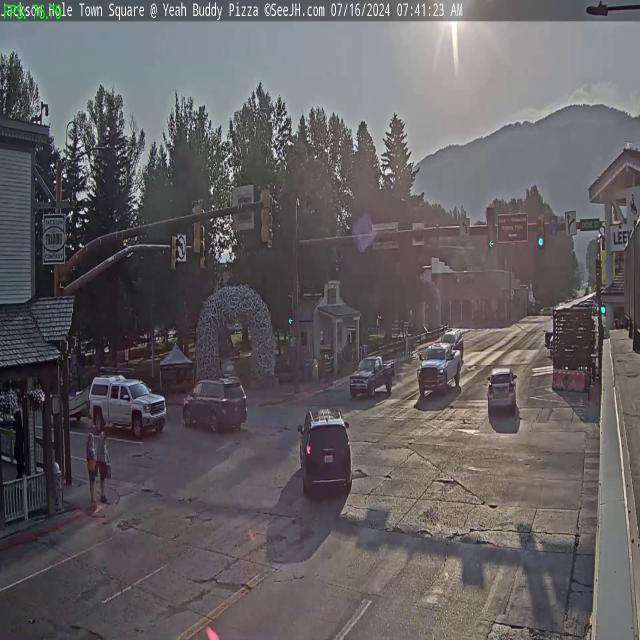person: (98, 426, 111, 505), (86, 420, 98, 500)
pickup: (418, 340, 462, 394), (349, 352, 395, 399)
suv: (299, 406, 354, 495), (487, 367, 518, 415)
traffic light: (260, 184, 272, 245), (191, 199, 203, 256), (170, 233, 180, 272), (487, 207, 496, 248), (537, 215, 545, 248)
truck: (89, 372, 168, 442)
van: (182, 377, 248, 437)
